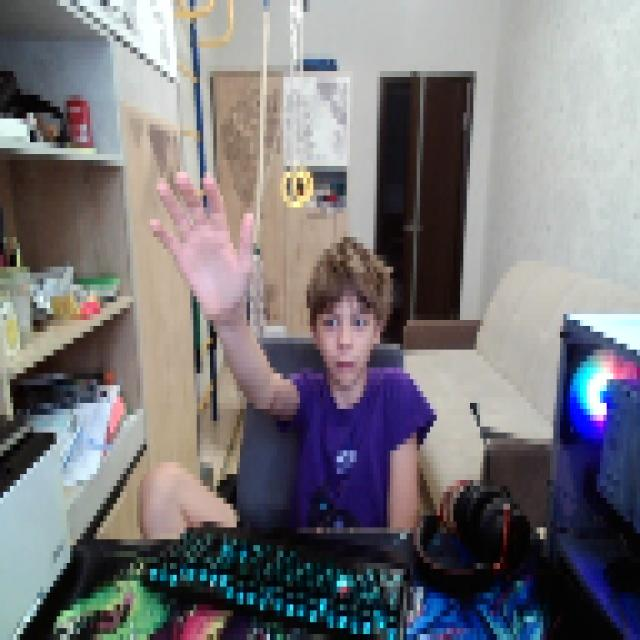hand: (144, 161, 254, 315)
